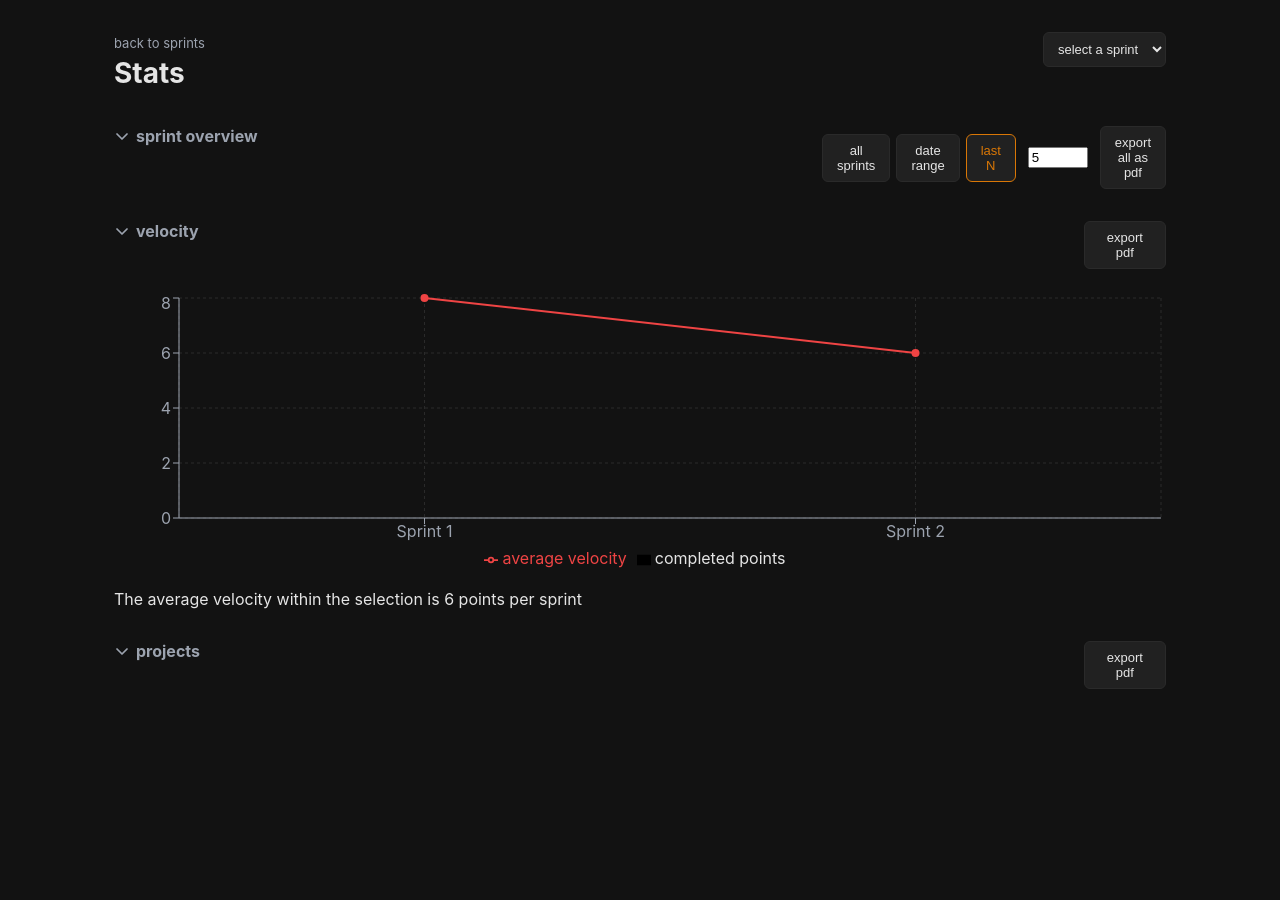
Test: stats page › renders the sprint's calendar once loaded
The image size is (1280, 900).
Select "Sprint 1" in the dropdown at (1104, 50), box [1043, 32, 1166, 67]
(page scrolled)
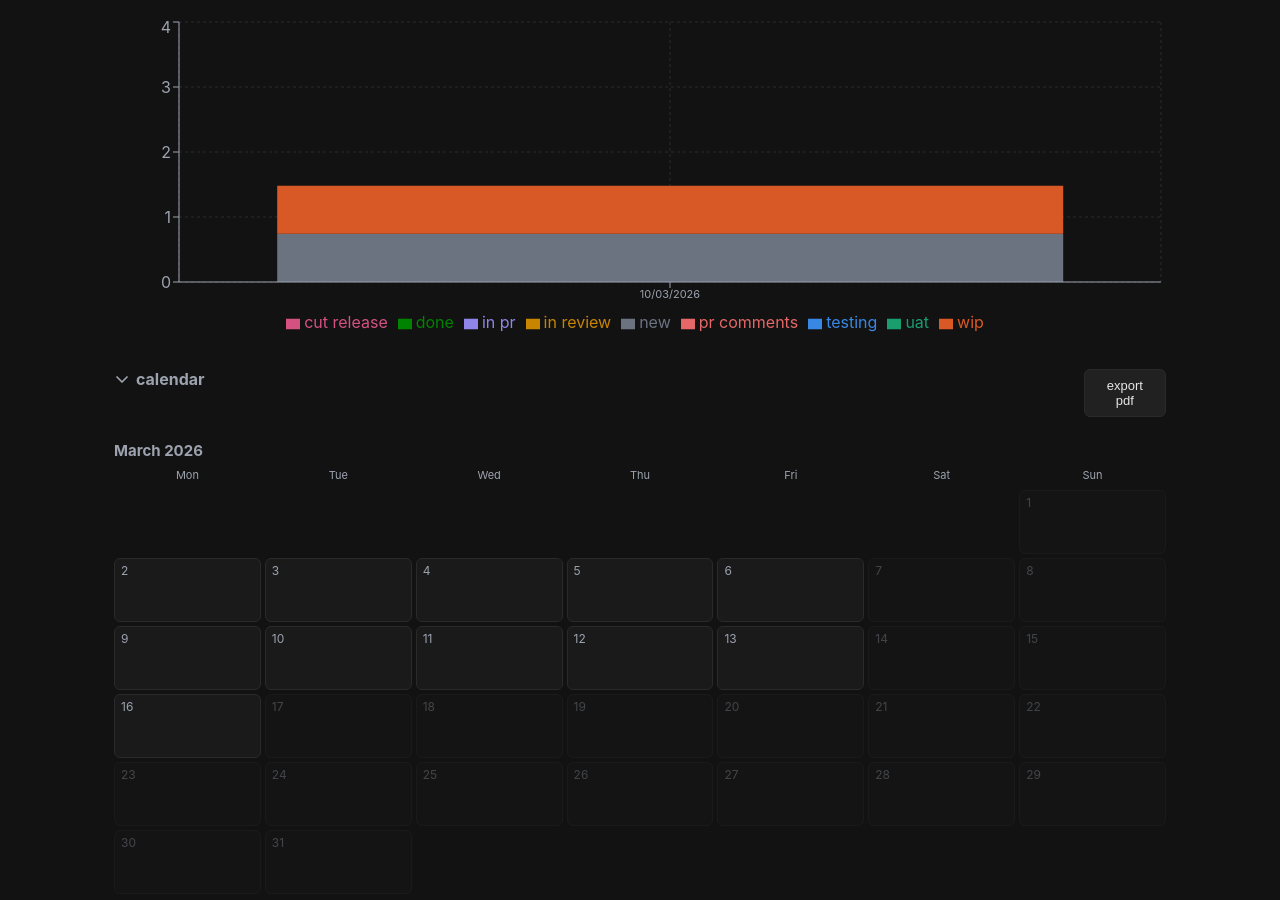
Check: the heading "March 2026" is shown, box [114, 441, 203, 460]
